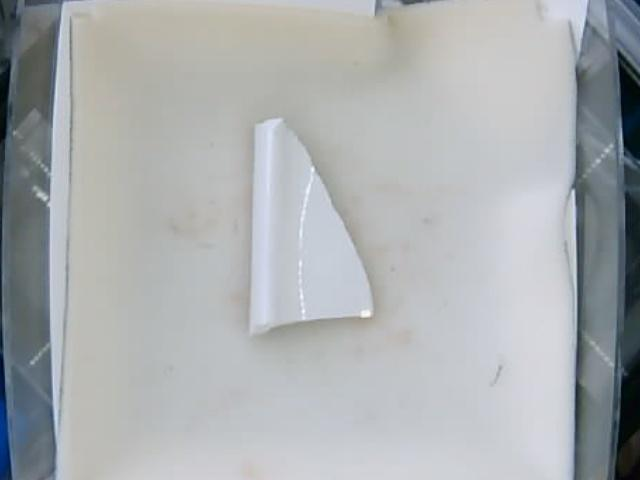China: (250, 117, 376, 335)
